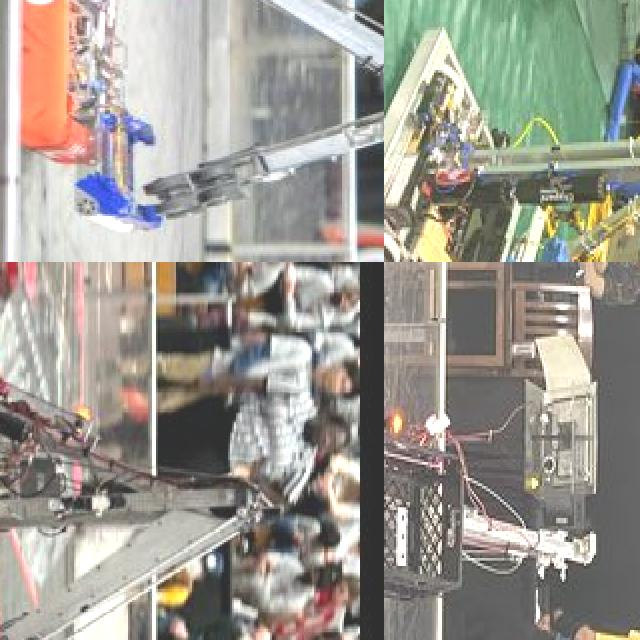FRC-Robots: (0, 269, 261, 640), (7, 0, 384, 254), (384, 262, 587, 640), (384, 0, 640, 262)
